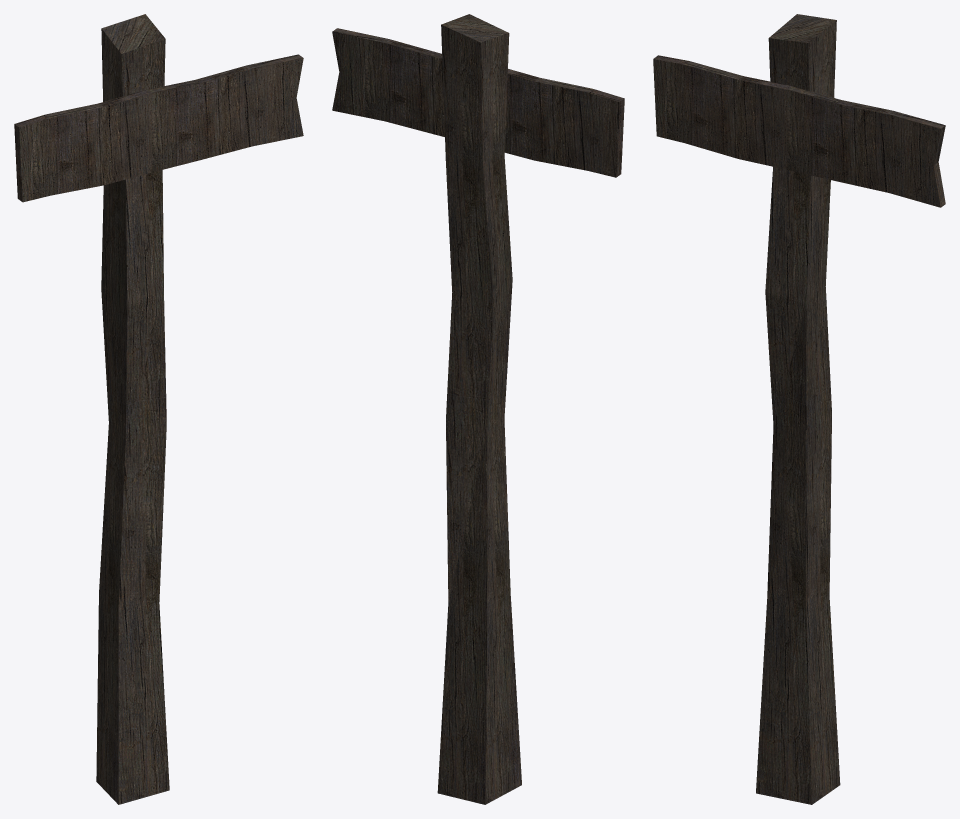
The model's file is Sign 2.fbx.
3 renders of one model, left to right at view 1: azimuth 30°, elevation 25°; view 2: azimuth 150°, elevation 25°; view 3: azimuth 330°, elevation 25°, orthographic.
Visible parts, largest first — view 1: Model; view 2: Model; view 3: Model.
Part boxes in pixels (x1,y1,x2,y2): Model: (14,14,303,804); Model: (332,14,624,804); Model: (653,14,945,804).
Bounding box in the file's own units: 32.71 × 83.34 × 6.07.
